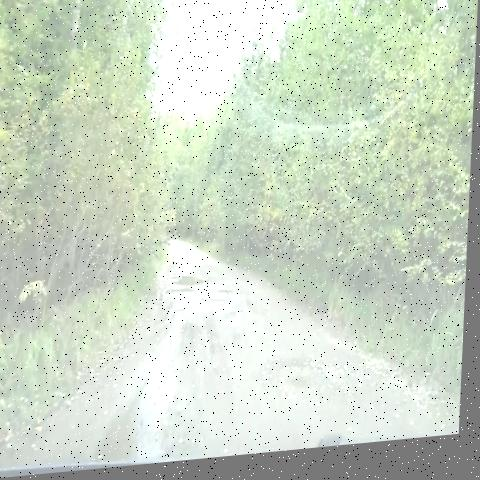pothole: (252, 350, 360, 420), (166, 266, 216, 303), (213, 284, 242, 310), (167, 305, 198, 322)
